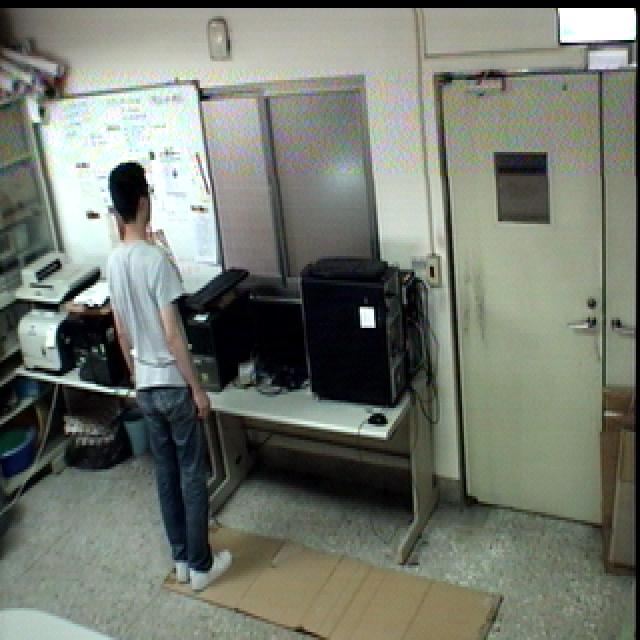stand: (96, 153, 245, 599)
